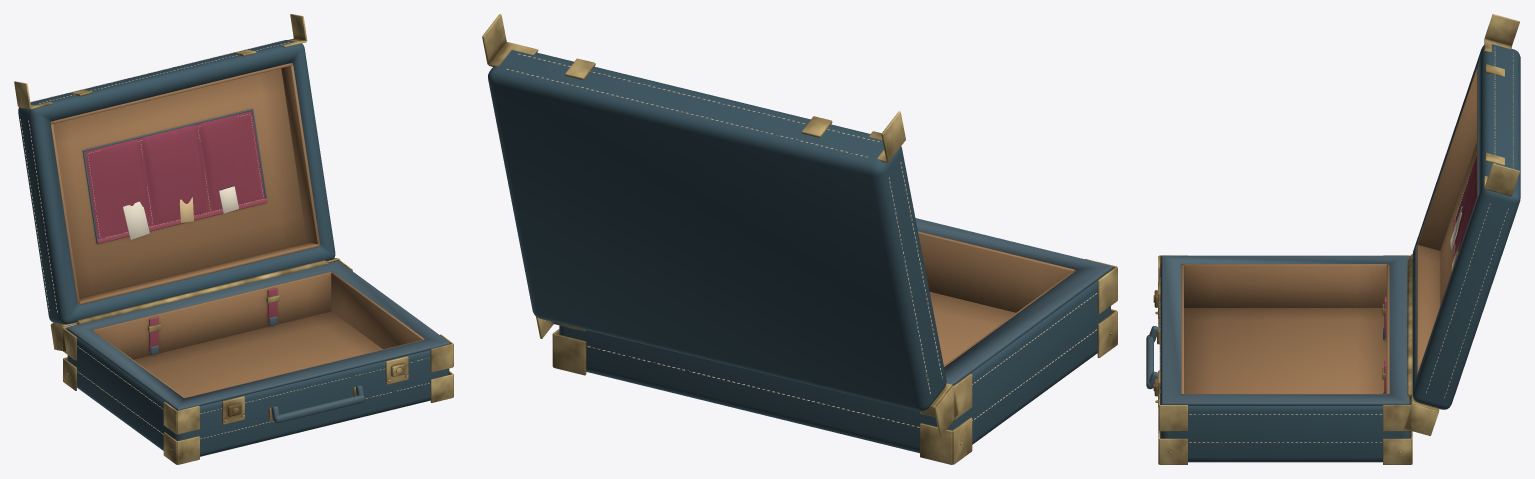
File: sc_suitcase_v2.glb
3 renders of one model, left to right at view 1: azimuth 30°, elevation 25°; view 2: azimuth 150°, elevation 25°; view 3: azimuth 270°, elevation 25°, orthographic. The views are drawn at different scales.
Parts seen in each view (by area): view 1: sc_suitcase; view 2: sc_suitcase; view 3: sc_suitcase.
Boxes of the visible parts, box(x1,y1,x2,y2) form: sc_suitcase: box(14, 14, 453, 464); sc_suitcase: box(482, 14, 1117, 464); sc_suitcase: box(1146, 14, 1520, 464).
Size of the model in its own units: 7.06 by 6.57 by 7.37.
1 material, 1 textured.
